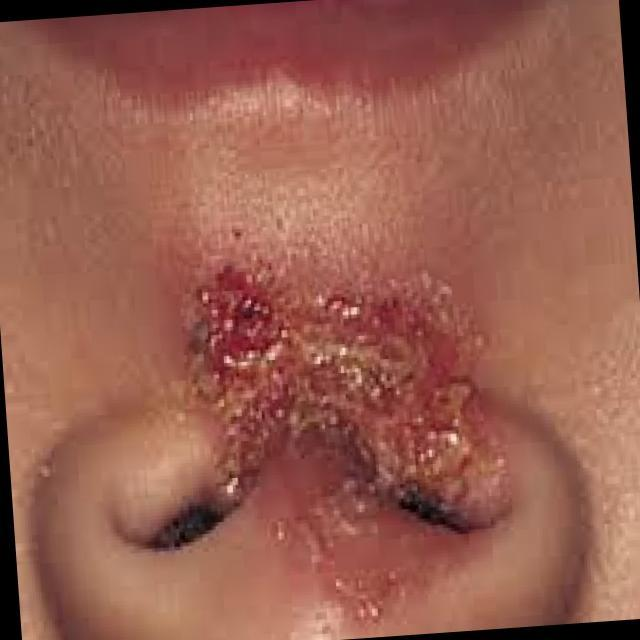Eczema: (189, 264, 496, 558)
